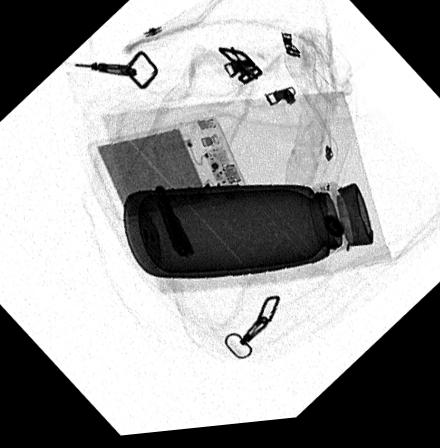Powerbank: (85, 120, 247, 229)
